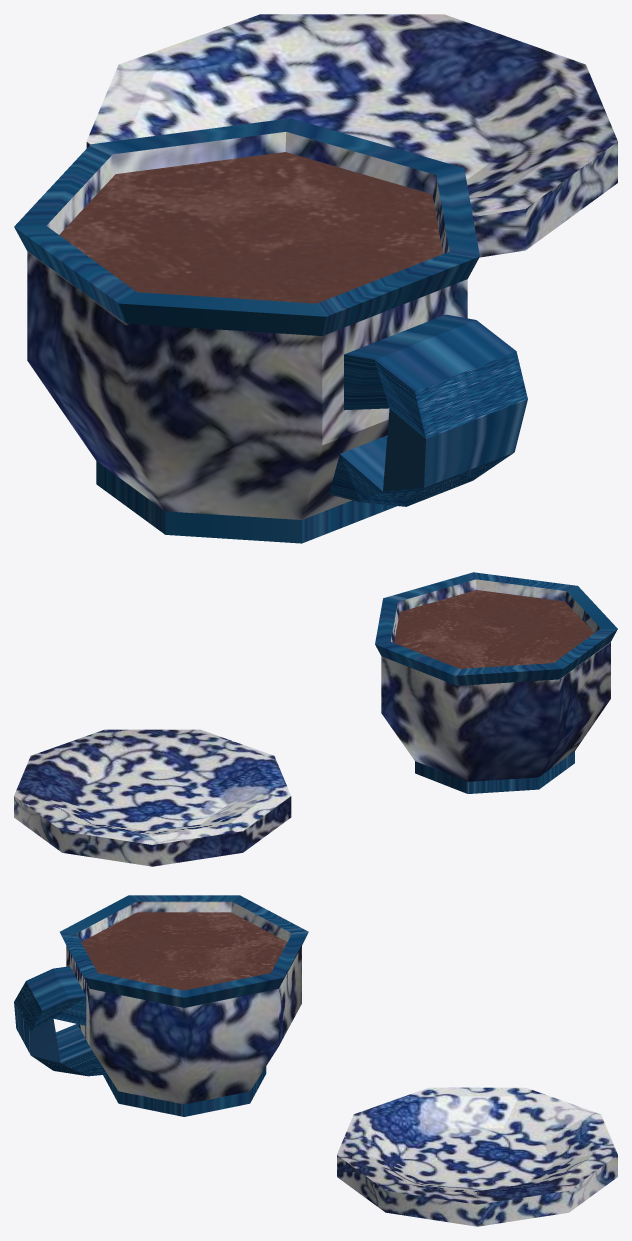
File: teapot.FBX
3 views of the same model, one above another, from view 1: azimuth 30°, elevation 25°; view 2: azimuth 150°, elevation 25°; view 3: azimuth 270°, elevation 25° (orthographic). The views are drawn at different scales.
Visible parts, largest first — view 1: Cylinder001, Cylinder002, Object001, r, Object002; view 2: Cylinder002, Cylinder001, r, Object001, Object002; view 3: Cylinder002, Cylinder001, Object001, r, Object002.
Part boxes in pixels (bbox=[...]): Cylinder001: bbox=[27, 132, 467, 519]; Cylinder002: bbox=[86, 14, 617, 216]; Object001: bbox=[14, 118, 527, 543]; r: bbox=[59, 152, 442, 303]; Object002: bbox=[86, 141, 617, 257]; Cylinder002: bbox=[14, 729, 290, 844]; Cylinder001: bbox=[381, 579, 610, 781]; r: bbox=[394, 590, 593, 668]; Object001: bbox=[375, 572, 617, 793]; Object002: bbox=[14, 796, 291, 866]; Cylinder002: bbox=[337, 1087, 617, 1204]; Cylinder001: bbox=[66, 901, 301, 1104]; Object001: bbox=[14, 895, 308, 1116]; r: bbox=[81, 912, 287, 990]; Object002: bbox=[337, 1155, 617, 1226].
Size of the model in its own units: 64.28 by 20.06 by 79.79.
3 materials, 3 textured.
